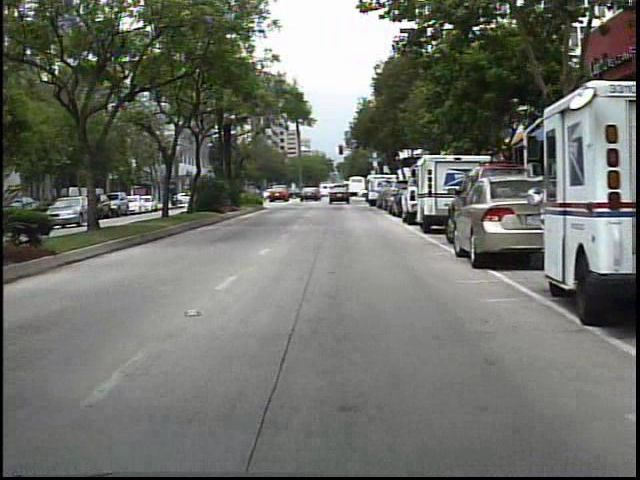person: (332, 183, 345, 203)
